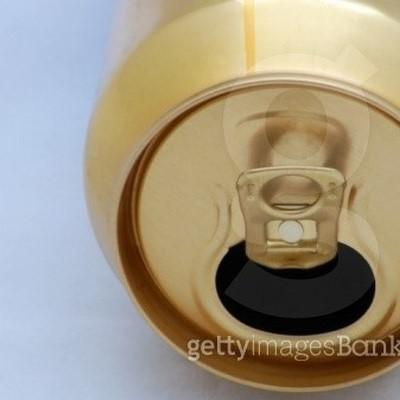beer: (82, 2, 400, 392)
